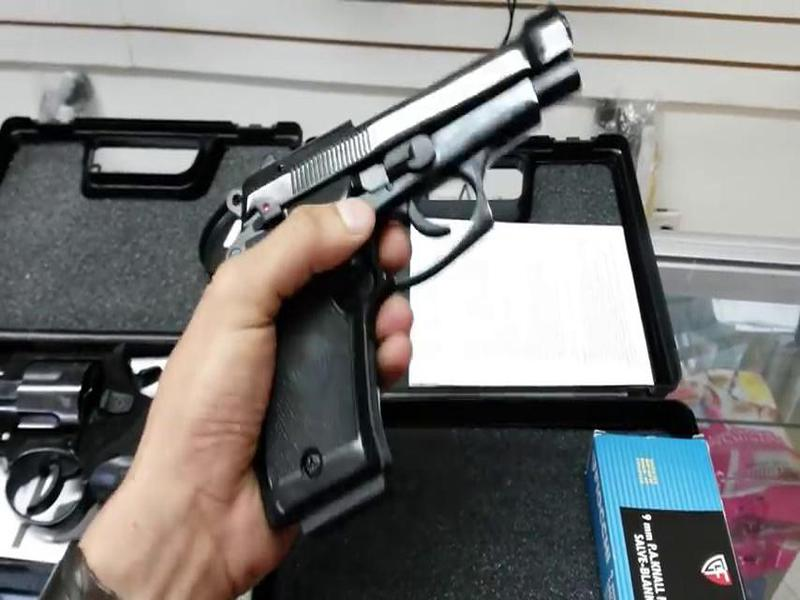Pistola: (195, 20, 587, 509)
